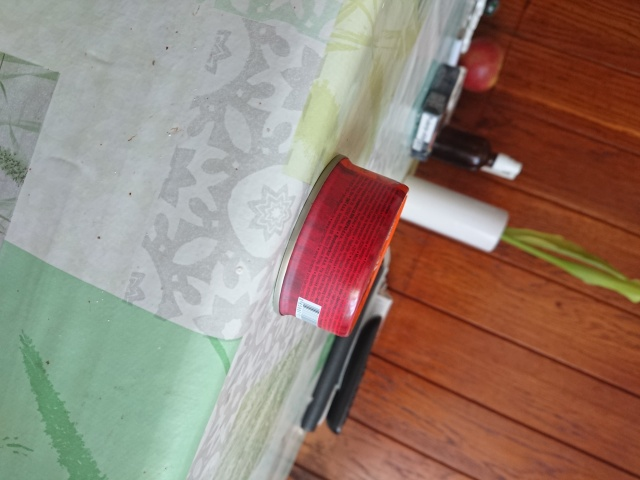Gavrilovic Pork Liver Pate 100g: (270, 151, 412, 340)
